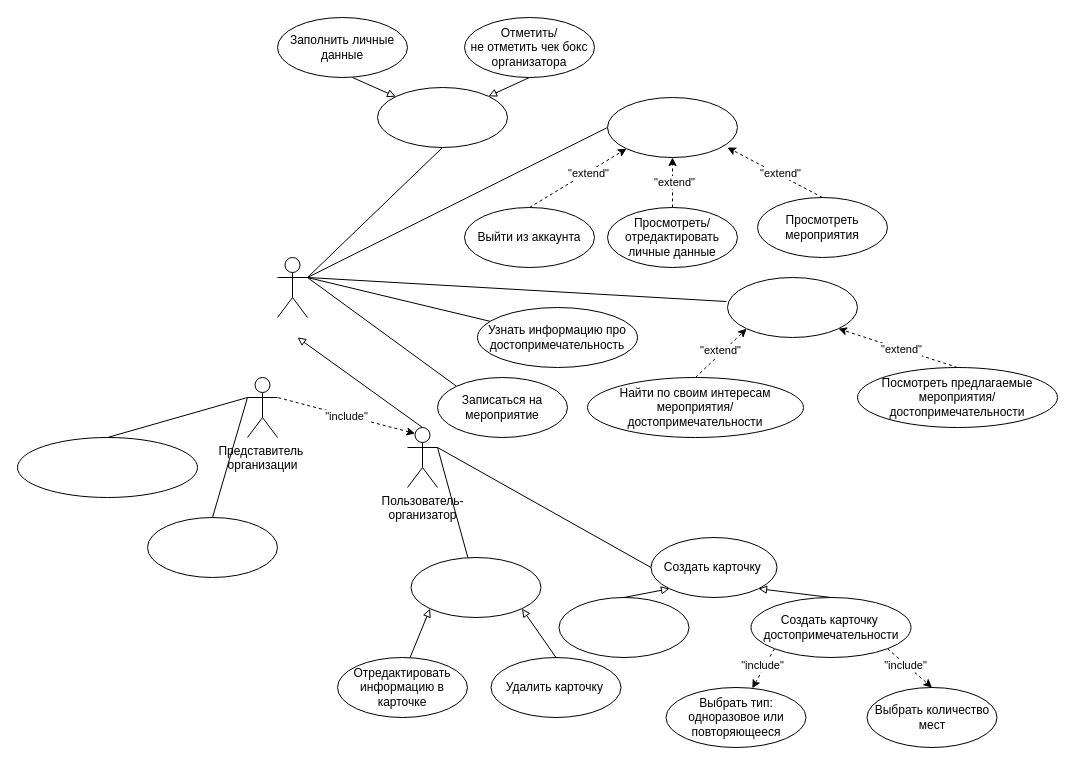
Image size: 1075x765. Some labels were removed from this diagram. The centre of each missing label's shape, as x and y in pixels:
Добавить работников в качестве пользователей- организаторов: the point at 107,467
Зайти в личный кабинет: the point at 672,127
Зайти на главную страницу: the point at 792,307
Зарегистрироваться в системе: the point at 442,117
Изменить карточку: the point at 475,587
Пользователь: the point at 292,287
Создать аккаунт организации: the point at 212,547
Создать карточку мероприятия: the point at 623,627
